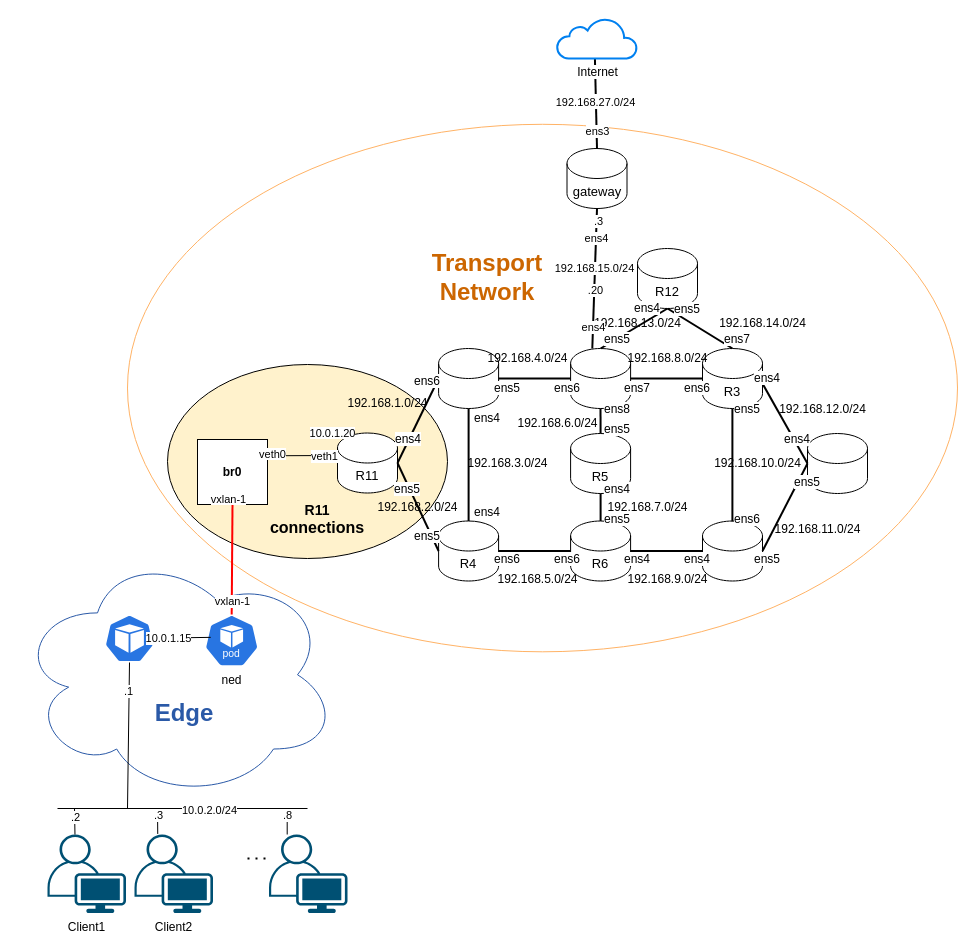
Some shapes in this 975 by 951 pixel diagram are drawn without their labels. The shapes that lost their labels are listed below. From the top down, each one's box as (x1, y1, x2, y2) in pixels, then its label:
(438, 348, 499, 408): R1
(570, 348, 631, 408): R2
(806, 432, 868, 494): R13
(702, 520, 762, 581): R7
(104, 614, 154, 662): proxy
(268, 834, 347, 912): Client7
